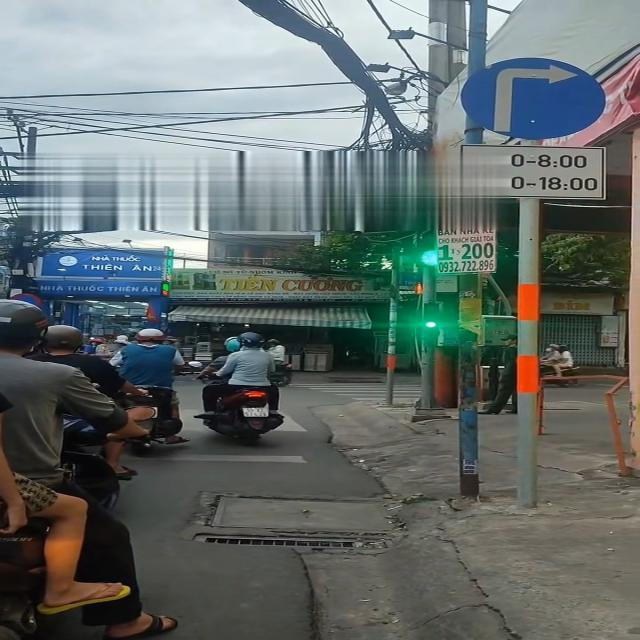301d-cac-xe-chi-duoc-re-phai-2: (462, 55, 606, 143)
